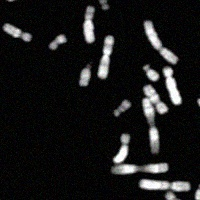chromosome: (144, 20, 180, 64), (142, 97, 160, 152), (143, 82, 169, 114), (98, 34, 116, 79), (163, 66, 183, 104), (139, 178, 191, 192), (110, 163, 169, 175), (1, 21, 32, 42), (113, 132, 133, 164), (83, 6, 98, 44), (79, 63, 95, 88), (112, 98, 131, 118), (49, 33, 68, 52), (143, 62, 161, 82), (95, 0, 111, 11), (164, 191, 183, 200), (6, 0, 33, 3), (195, 184, 200, 200), (198, 96, 200, 126)
